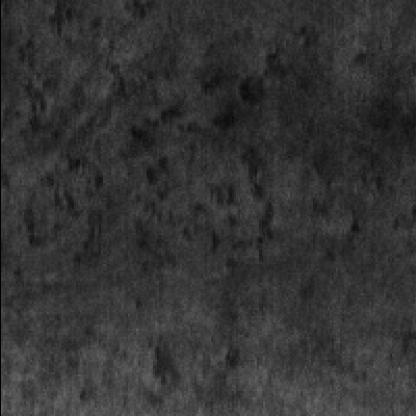rolled-in_scale: (10, 0, 258, 252)
